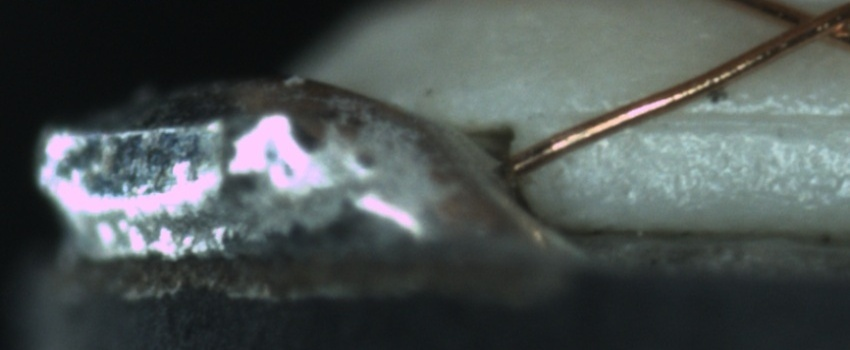CL: (767, 1, 847, 48)
DL: (558, 85, 848, 151)
